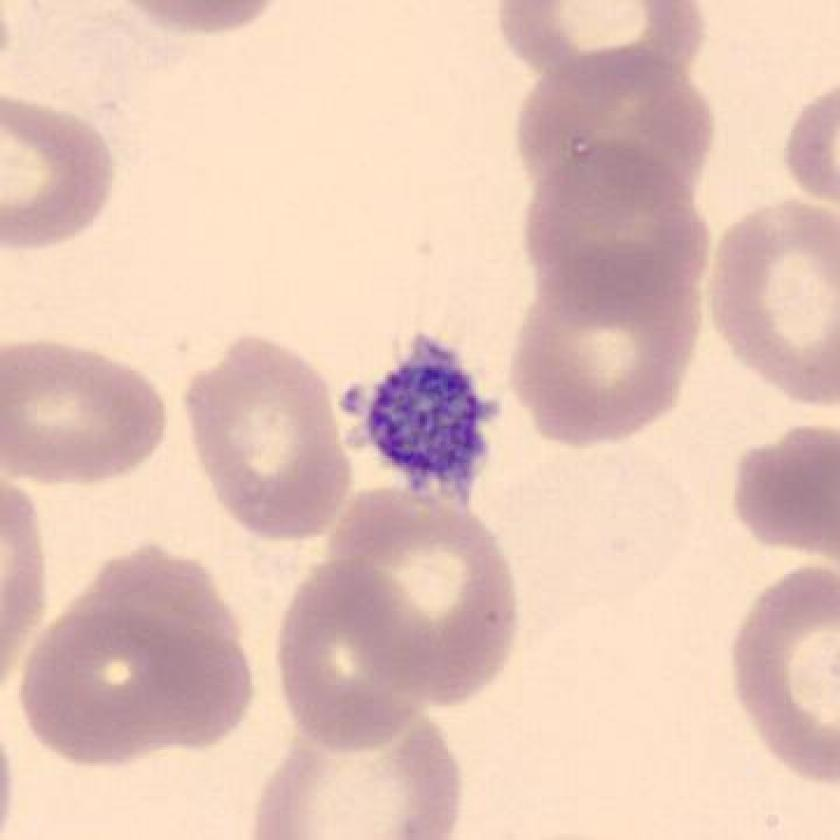platelets: (349, 332, 507, 496)
